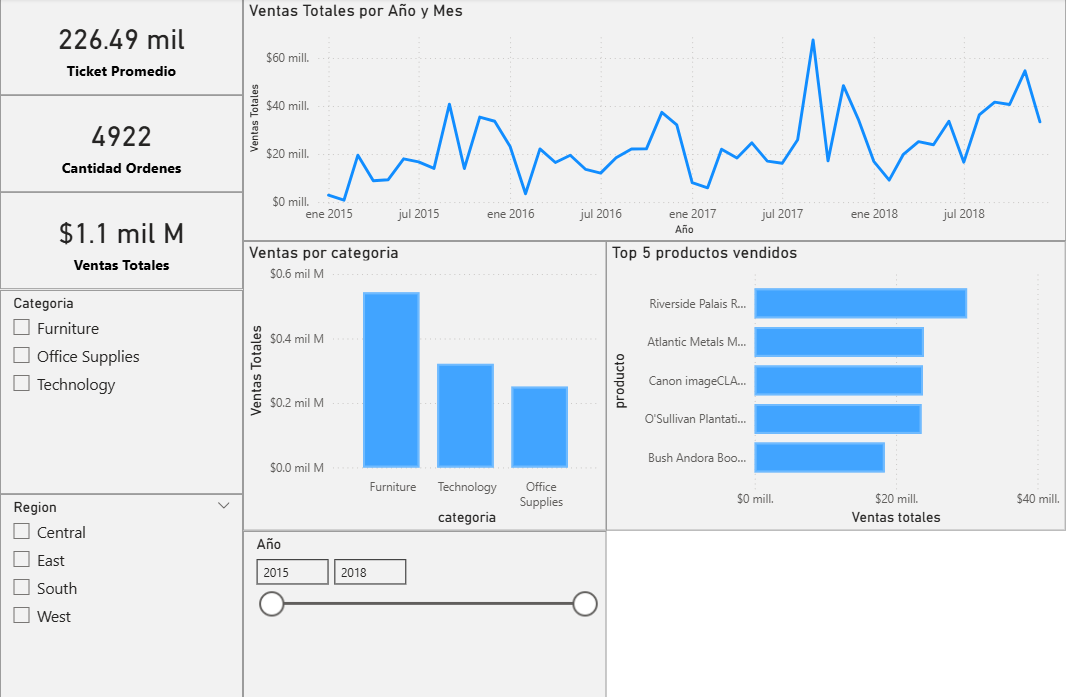

What the dashboard file says about the page in this screenshot:
{"tool":"powerbi","page":{"name":"Página 1","canvas":[1280,720],"ordinal":0},"visuals":[{"type":"card","fields":{"Values":["train.Ticket Promedio"]},"box":[0,0,250,100],"z":0},{"type":"card","fields":{"Values":["train.Ventas Totales"]},"box":[0,200,250,100],"z":1000},{"type":"card","fields":{"Values":["train.Cantidad Ordenes"]},"box":[0,100,250,100],"z":2000},{"type":"lineChart","fields":{"Y":["train.Ventas Totales"],"Category":["train.Order Date.Variación.Jerarquía de fechas.Año","train.Order Date.Variación.Jerarquía de fechas.Mes"]},"box":[250,1,847,249],"z":3000},{"type":"columnChart","title":"Ventas por categoria","fields":{"Category":["train.Category"],"Y":["train.Ventas Totales"]},"box":[250,250,374,298],"z":4000},{"type":"barChart","title":"Top 5 productos vendidos","fields":{"Category":["train.Product Name"],"Y":["train.Ventas Totales"]},"box":[624,250,473,298],"z":5000},{"type":"slicer","fields":{"Values":["train.Order Date.Variación.Jerarquía de fechas.Año"]},"box":[250.3,548.1,373.9,172.1],"z":6000},{"type":"slicer","fields":{"Values":["train.Region"]},"box":[0,510,250,210],"z":7000},{"type":"slicer","fields":{"Values":["train.Category"]},"box":[0,300,250,210],"z":8000}]}

Visuals, with their boxes on the page's 1280x720 design canvas (x1, y1, x2, y2). These are canvas units, not pixel positions in the 1067x697 screenshot, which may show the page scaled, cropped or inside an application window:
card - train.Ticket Promedio: region(0, 0, 250, 100)
card - train.Ventas Totales: region(0, 200, 250, 300)
card - train.Cantidad Ordenes: region(0, 100, 250, 200)
lineChart - train.Ventas Totales x train.Order Date.Variación.Jerarquía de fechas.Año: region(250, 1, 1097, 250)
"Ventas por categoria" columnChart: region(250, 250, 624, 548)
"Top 5 productos vendidos" barChart: region(624, 250, 1097, 548)
slicer - train.Order Date.Variación.Jerarquía de fechas.Año: region(250, 548, 624, 720)
slicer - train.Region: region(0, 510, 250, 720)
slicer - train.Category: region(0, 300, 250, 510)
